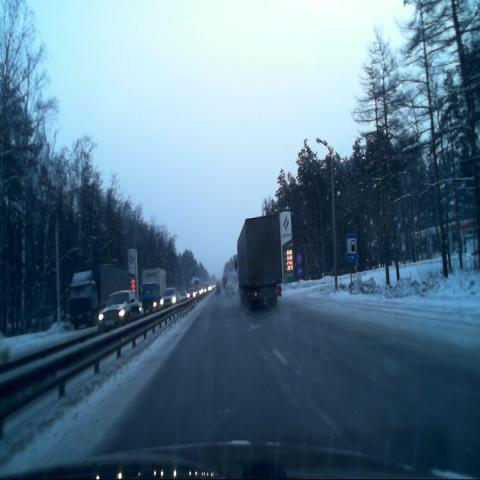7_3: (345, 231, 358, 263)
